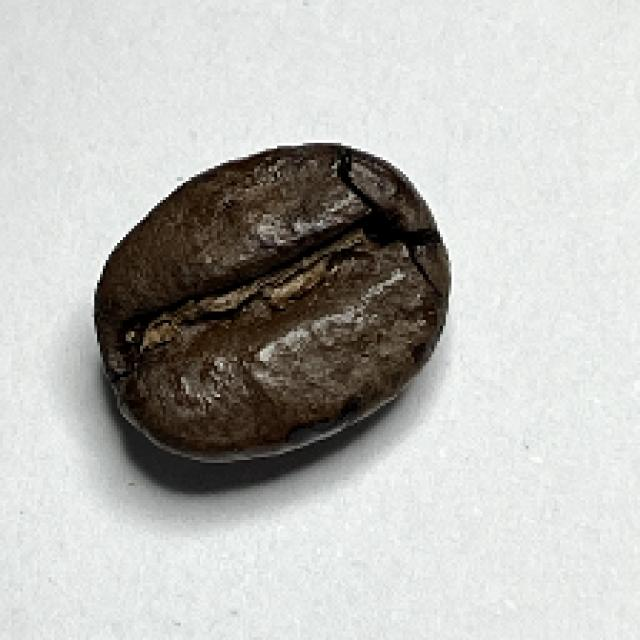bean: (91, 141, 456, 462)
